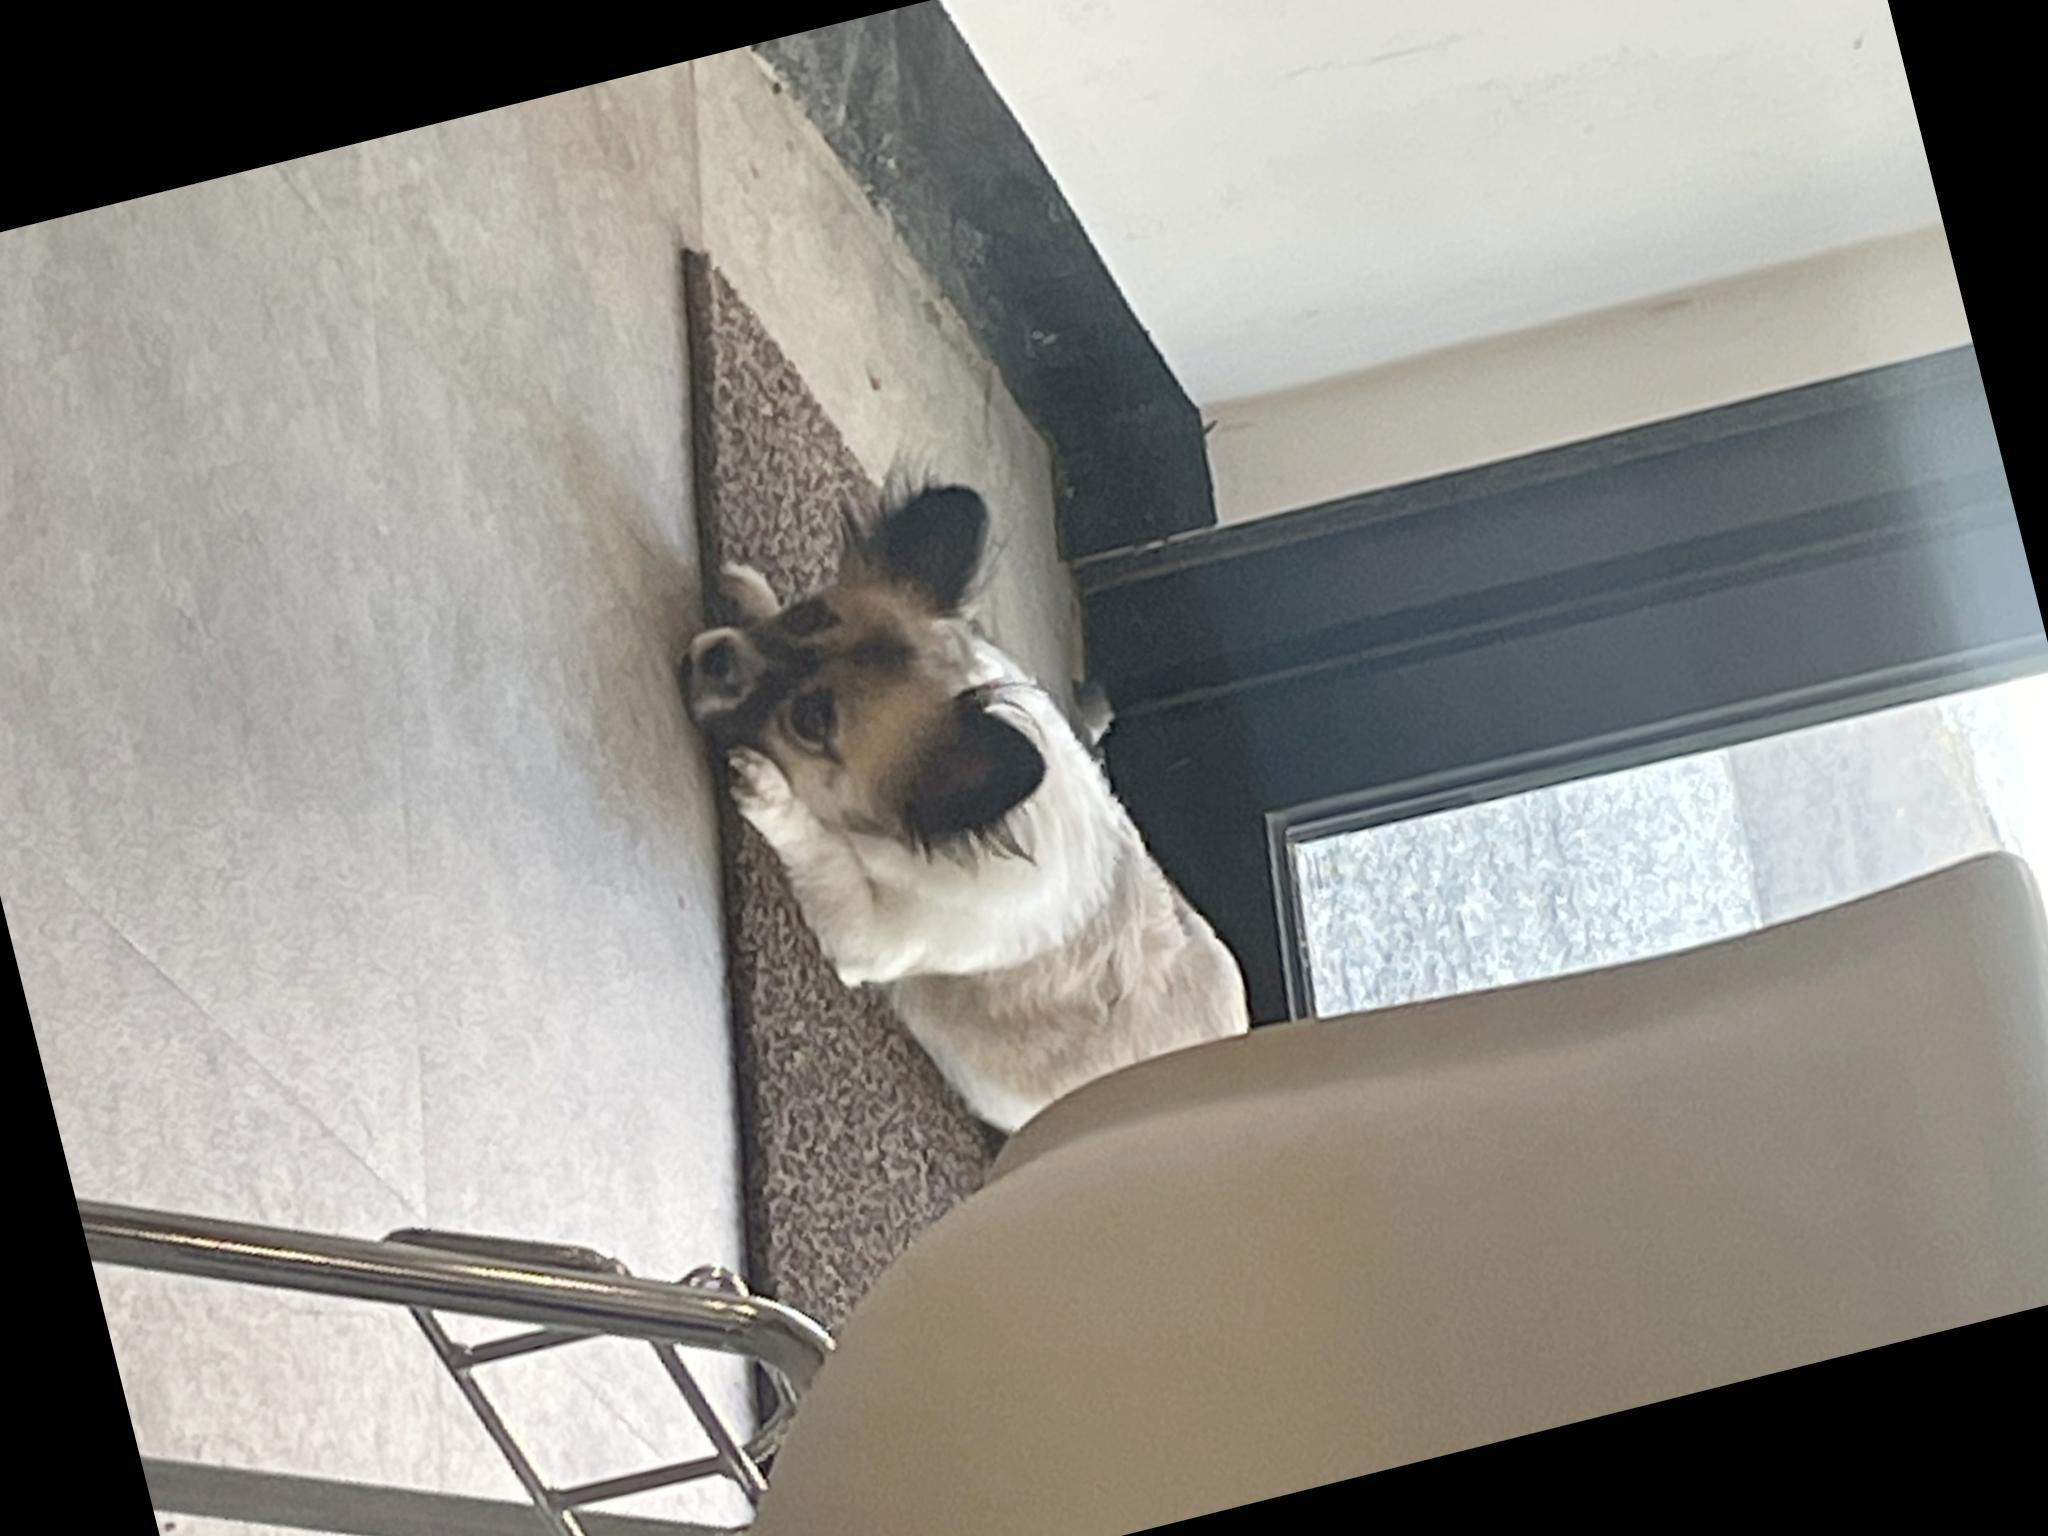dog: (971, 705, 1758, 1342)
